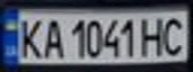0: (84, 16, 106, 58)
1: (118, 16, 142, 57), (66, 16, 87, 58)
4: (103, 16, 121, 58)
A: (39, 16, 66, 60)
C: (157, 14, 190, 56)
H: (139, 14, 169, 56)
K: (15, 16, 45, 60)
